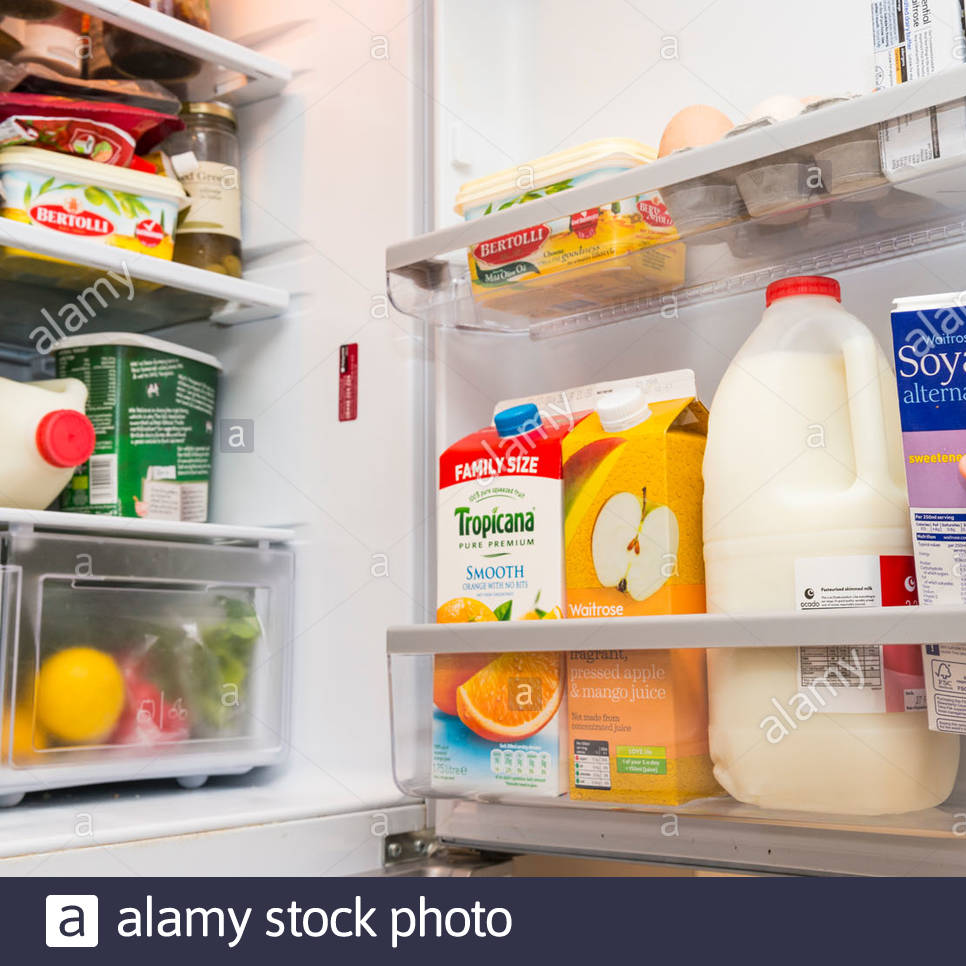milk: (699, 273, 962, 811), (1, 372, 94, 512)
